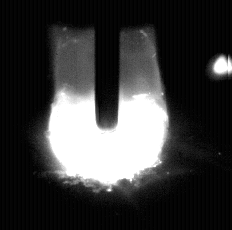arame: (96, 0, 121, 131)
poca: (47, 0, 169, 230)
